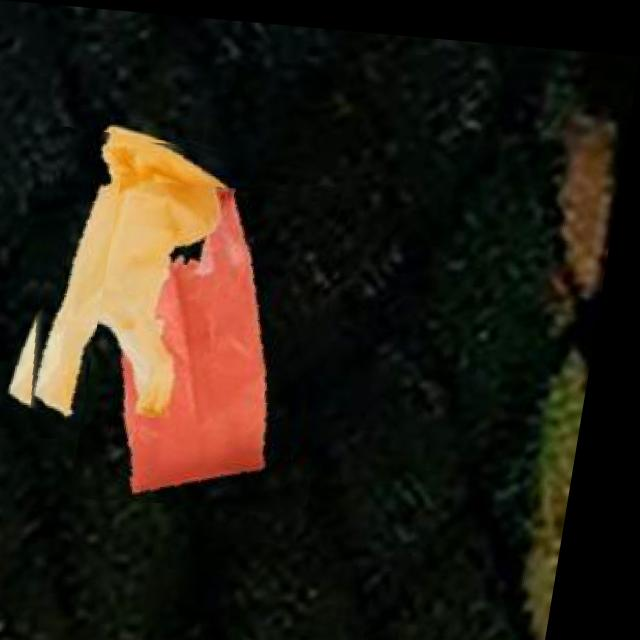litter: (86, 167, 360, 509), (14, 127, 260, 447)
